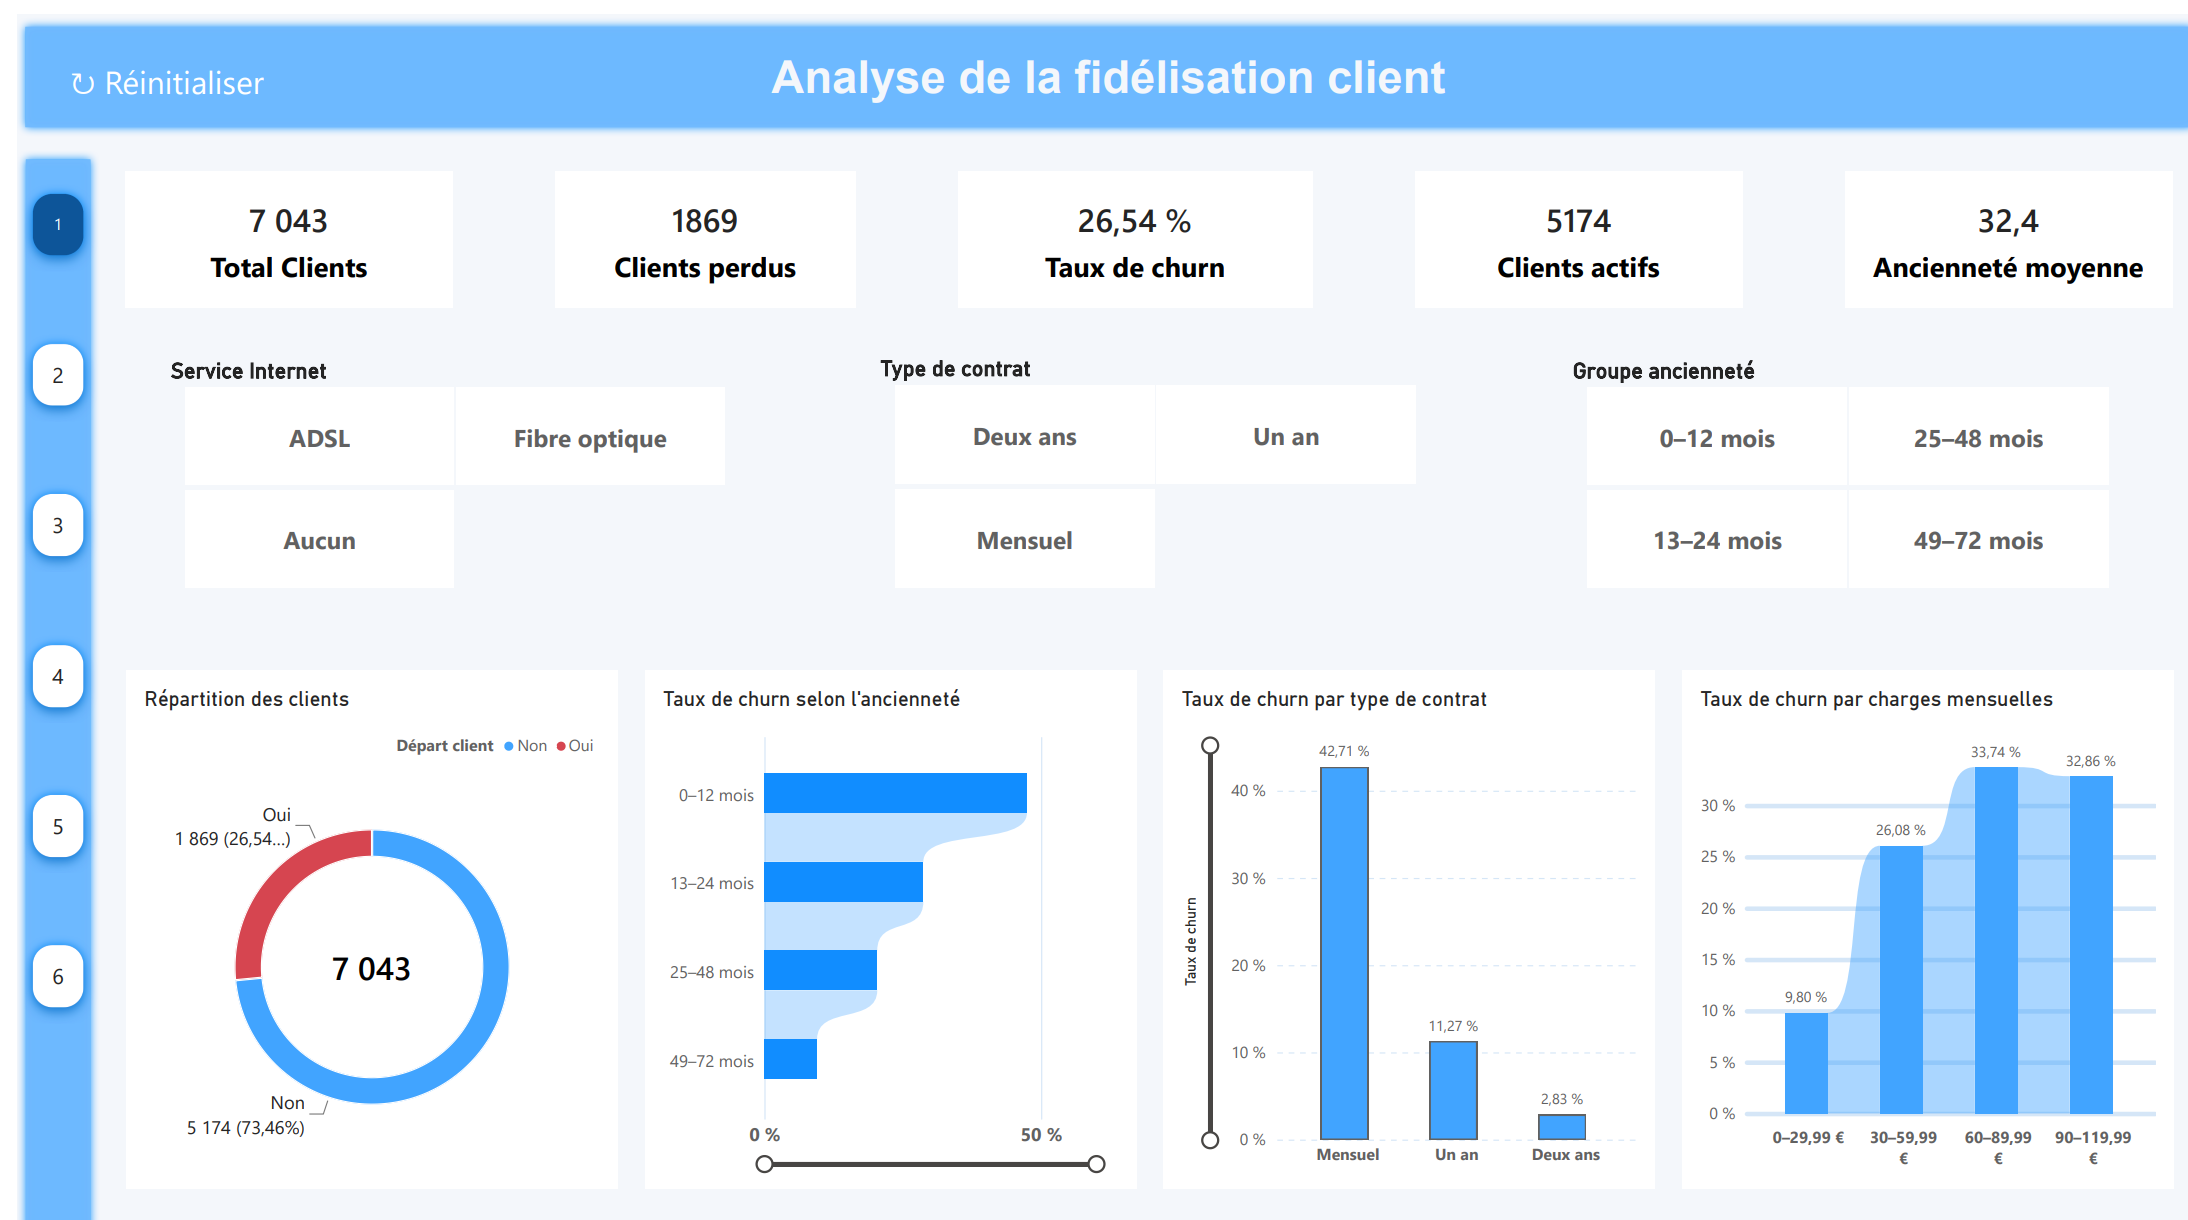

The page's visual inventory and layout, read from the dashboard file:
{"tool":"powerbi","page":{"name":"1","canvas":[1920,1080],"ordinal":0},"visuals":[{"type":"shape","box":[0,3.3,1920,103.3],"z":0},{"type":"shape","box":[101,135,282.5,97.5],"z":1000},{"type":"card","fields":{"Values":["_Mesures.Total Clients"]},"box":[95.5,138.5,288,120],"z":2000},{"type":"card","fields":{"Values":["_Mesures.Clients perdus"]},"box":[473.5,138.5,264,120],"z":3000},{"type":"card","fields":{"Values":["_Mesures.Taux de churn"]},"box":[827.5,138.5,312,120],"z":4000},{"type":"card","fields":{"Values":["_Mesures.Clients actifs"]},"box":[1229.5,138.5,288,120],"z":5000},{"type":"card","fields":{"Values":["_Mesures.Ancienneté moyenne"]},"box":[1607.5,138.5,288,120],"z":6000},{"type":"donutChart","title":"Répartition des clients","fields":{"Category":["Clients.Départ client"],"Y":["_Mesures.Total Clients"]},"box":[96,576,432,456],"z":7000},{"type":"barChart","title":"Taux de churn selon l''ancienneté","fields":{"Category":["Clients.Groupe ancienneté"],"Y":["_Mesures.Taux de churn"]},"box":[552,576,432,456],"z":8000},{"type":"columnChart","title":"Taux de churn par type de contrat","fields":{"Category":["Clients.Type de contrat"],"Y":["_Mesures.Taux de churn"]},"box":[1008,576,432,456],"z":9000},{"type":"columnChart","title":"Taux de churn par charges mensuelles","fields":{"Category":["Clients.Tranche charges mensuelles"],"Y":["_Mesures.Taux de churn"]},"box":[1464,576,432,456],"z":10000},{"type":"slicer","fields":{"Values":["Clients.Service Internet"]},"box":[126.7,302.4,514,204],"z":11000},{"type":"slicer","fields":{"Values":["Clients.Type de contrat"]},"box":[751.3,300.4,498,206],"z":12000},{"type":"slicer","fields":{"Values":["Clients.Groupe ancienneté"]},"box":[1360,302.4,498,204],"z":13000},{"type":"shape","box":[0,120,72,960],"z":14000},{"type":"pageNavigator","box":[0,144,72,744],"z":15000},{"type":"actionButton","box":[24,24,216,72],"z":15001}]}

Visuals, with their boxes in screenshot pixels (x1, y1, x2, y2), scaled from the page's 1920x1080 canvas onto the 2188x1220 screenshot:
shape: (x1=0, y1=4, x2=2187, y2=120)
shape: (x1=115, y1=152, x2=437, y2=263)
card - _Mesures.Total Clients: (x1=109, y1=156, x2=437, y2=292)
card - _Mesures.Clients perdus: (x1=540, y1=156, x2=840, y2=292)
card - _Mesures.Taux de churn: (x1=943, y1=156, x2=1299, y2=292)
card - _Mesures.Clients actifs: (x1=1401, y1=156, x2=1729, y2=292)
card - _Mesures.Ancienneté moyenne: (x1=1832, y1=156, x2=2160, y2=292)
"Répartition des clients" donutChart: (x1=109, y1=651, x2=602, y2=1166)
"Taux de churn selon l''ancienneté" barChart: (x1=629, y1=651, x2=1121, y2=1166)
"Taux de churn par type de contrat" columnChart: (x1=1149, y1=651, x2=1641, y2=1166)
"Taux de churn par charges mensuelles" columnChart: (x1=1668, y1=651, x2=2161, y2=1166)
slicer - Clients.Service Internet: (x1=144, y1=342, x2=730, y2=572)
slicer - Clients.Type de contrat: (x1=856, y1=339, x2=1424, y2=572)
slicer - Clients.Groupe ancienneté: (x1=1550, y1=342, x2=2117, y2=572)
shape: (x1=0, y1=136, x2=82, y2=1219)
pageNavigator: (x1=0, y1=163, x2=82, y2=1003)
actionButton: (x1=27, y1=27, x2=274, y2=108)
